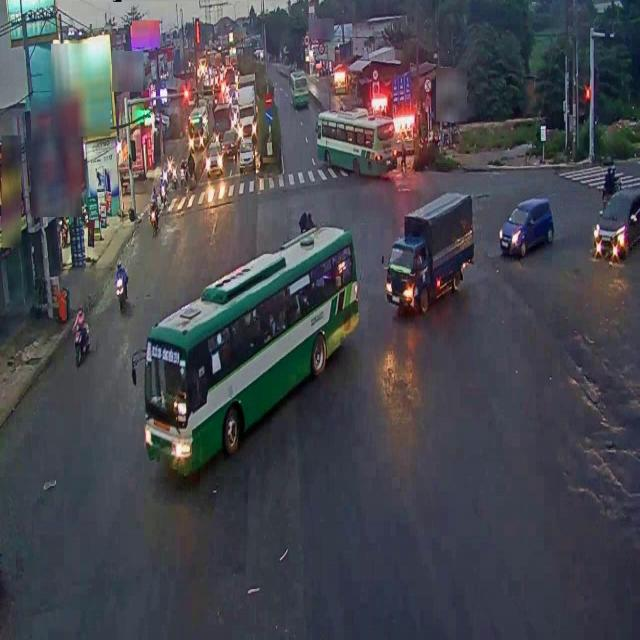bus: (145, 249, 357, 461), (318, 107, 394, 176)
car: (496, 194, 554, 257)
motorcycle: (72, 308, 92, 376), (297, 197, 317, 256), (113, 257, 129, 309), (148, 194, 160, 236)
truck: (389, 195, 473, 304)
